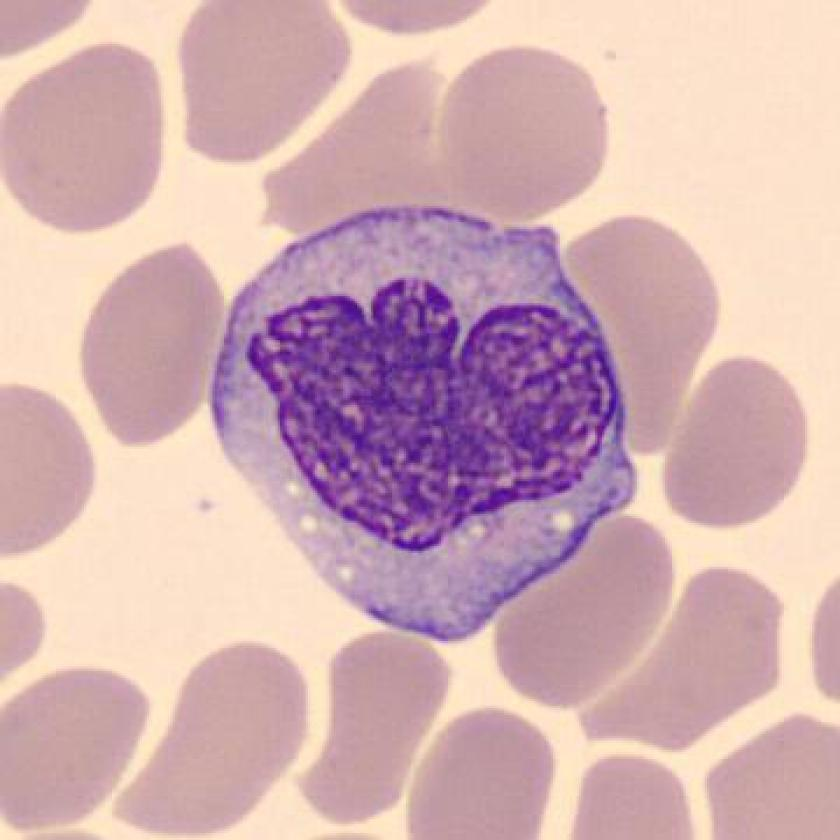monocyte: (199, 191, 650, 649)
